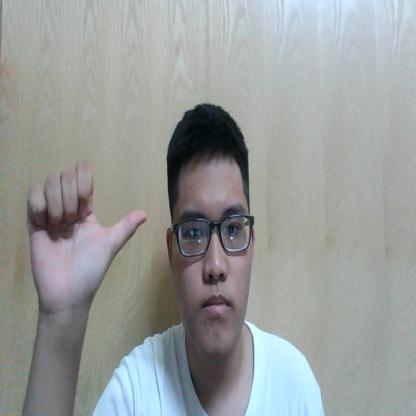left: (23, 157, 147, 294)
